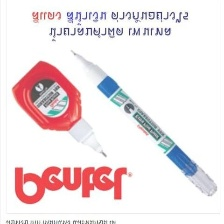correction_fluid: (68, 46, 219, 197), (10, 58, 109, 161)
